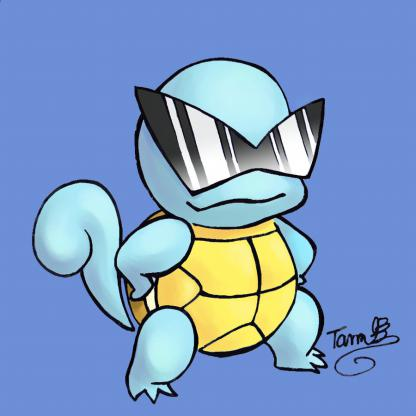Squirtle: (28, 53, 336, 406)
